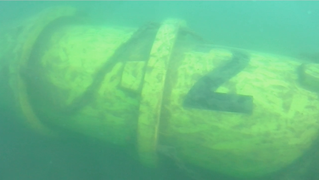2: (182, 44, 254, 114)
pipe: (1, 5, 319, 180)
